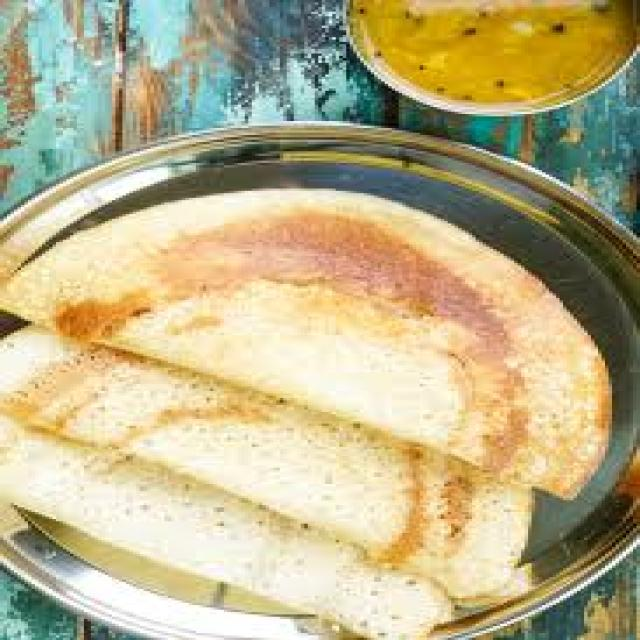Wet Waste: (0, 182, 619, 498), (0, 279, 539, 603), (0, 375, 462, 633)
